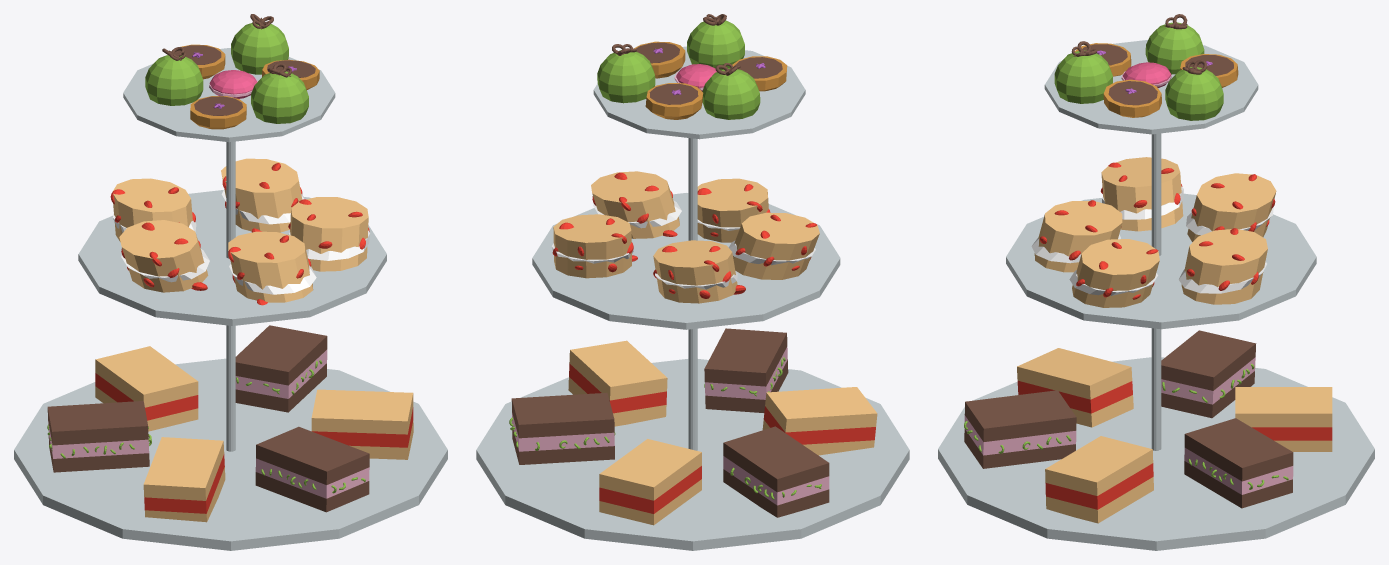
File: dessert.glb
3 views of the same model, side by side, from view 1: azimuth 30°, elevation 25°; view 2: azimuth 150°, elevation 25°; view 3: azimuth 270°, elevation 25° (orthographic).
Parts seen in each view (by area): view 1: Node; view 2: Node; view 3: Node.
Boxes of the visible parts, x1,y1,x2,y2 form: Node: (14, 14, 447, 550); Node: (476, 14, 909, 550); Node: (938, 14, 1374, 550).
Bounding box in the file's own units: 0.45 × 0.4774 × 0.45.
